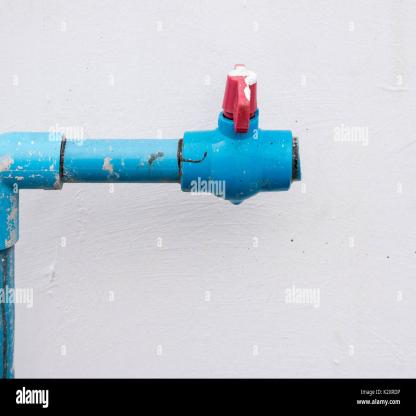PVC: (0, 63, 304, 379)
